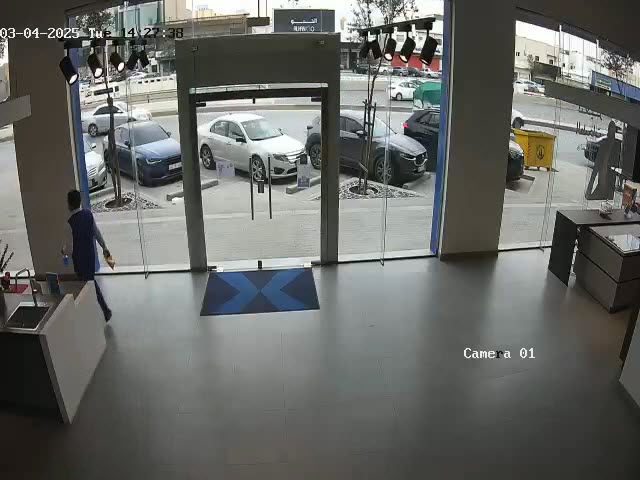employee: (66, 190, 115, 322)
